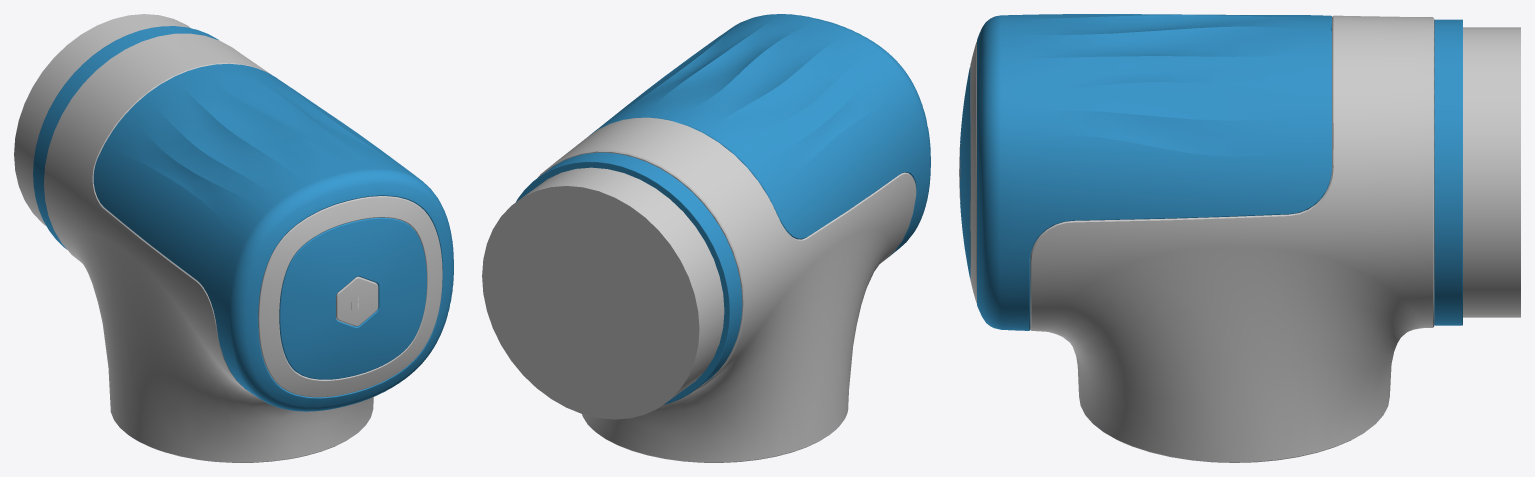
Rendered from NOVA2_J5_ASM.gltf.
3 renders of one model, left to right at view 1: azimuth 30°, elevation 25°; view 2: azimuth 150°, elevation 25°; view 3: azimuth 270°, elevation 25°, orthographic. The views are drawn at different scales.
Parts seen in each view (by area): view 1: J5-PART2, J5-PART1, J5-PART3, J5-PART5, J5-PART4; view 2: J5-PART1, J5-PART2, J5-PART5; view 3: J5-PART1, J5-PART2, J5-PART5, J5-PART3.
Part boxes in pixels (x1,y1,x2,y2): J5-PART2: (93,63,453,411); J5-PART1: (14,14,373,462); J5-PART3: (258,196,442,397); J5-PART5: (33,26,218,249); J5-PART4: (336,276,378,326); J5-PART1: (482,117,916,462); J5-PART2: (588,14,930,257); J5-PART5: (516,152,742,404); J5-PART1: (1030,15,1520,462); J5-PART2: (960,14,1331,330); J5-PART5: (1434,19,1462,325); J5-PART3: (970,42,976,303).
Bounding box in the file's own units: 0.0715 × 0.0914 × 0.1265.
